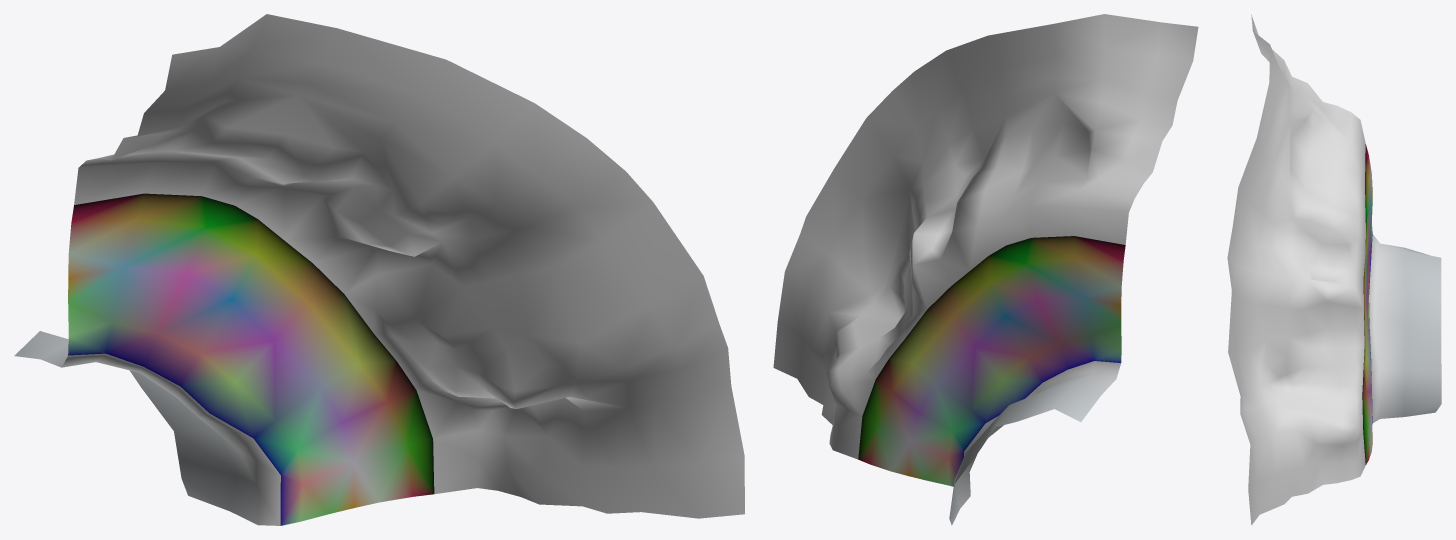
File: Volcano_CurveInA_lod2.glb
3 views of the same model, side by side, from view 1: azimuth 30°, elevation 25°; view 2: azimuth 150°, elevation 25°; view 3: azimuth 270°, elevation 25° (orthographic). The views are drawn at different scales.
Parts seen in each view (by area): view 1: MeshNode_0, MeshNode_1; view 2: MeshNode_0, MeshNode_1; view 3: MeshNode_0, MeshNode_1.
Boxes of the visible parts, x1,y1,x2,y2 form: MeshNode_0: (14,14,744,525); MeshNode_1: (68,193,434,525); MeshNode_0: (773,14,1198,525); MeshNode_1: (858,236,1125,486); MeshNode_0: (1227,14,1441,525); MeshNode_1: (1362,144,1372,464).
Size of the model in its own units: 128 by 128 by 71.15.
